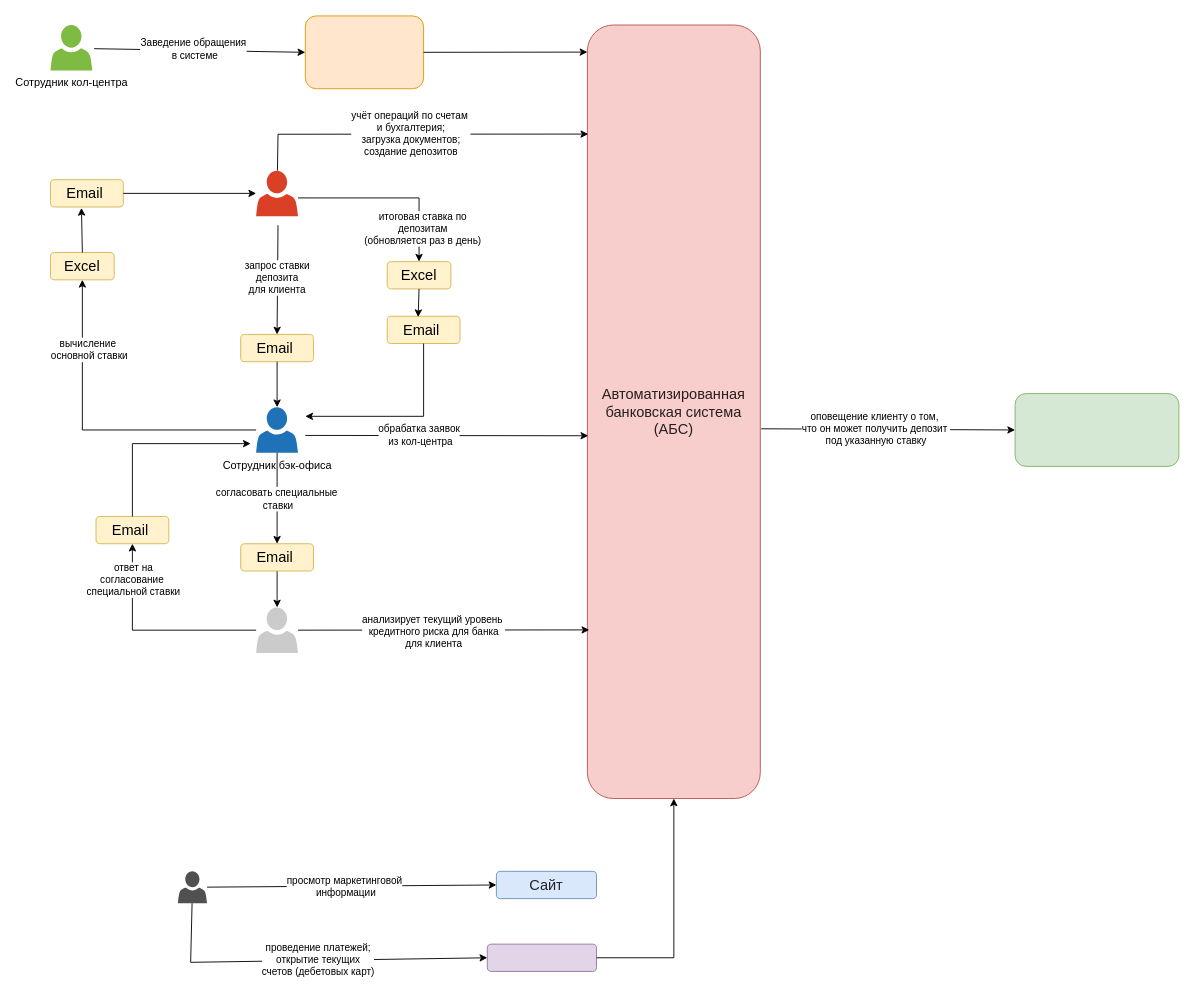
This 1195x994 diagram has some shape labels left out. Each missing label, with the centre of its shape:
Интернет-банк: the point at 541,957
Клиент банка: the point at 192,887
Система кол-центра: the point at 364,52
СМС-шлюз: the point at 1096,429
Сотрудник кредитования (бэк-офис): the point at 277,629
Сотрудник офиса: the point at 277,193
